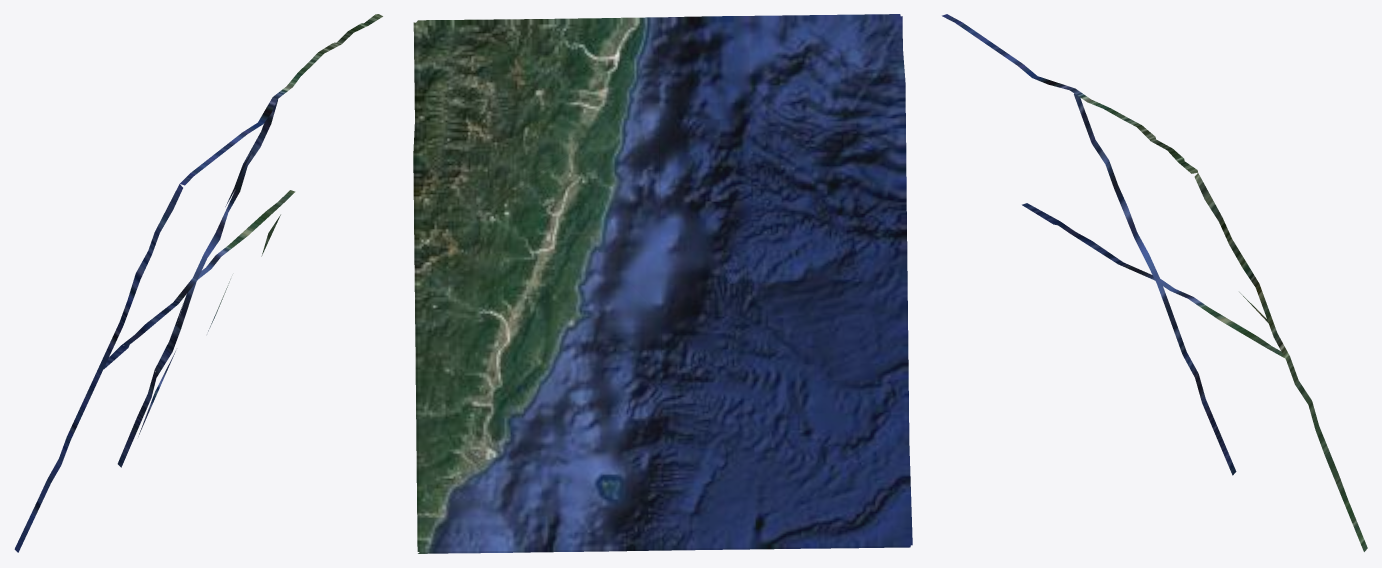
The picture shows the model from 3 angles, left to right: view 1: azimuth 30°, elevation 25°; view 2: azimuth 150°, elevation 25°; view 3: azimuth 270°, elevation 25°; orthographic projection. The views are drawn at different scales.
Bounding box in the file's own units: 154438 × 148188 × 132841.
Materials: 1 (1 with a texture image).
